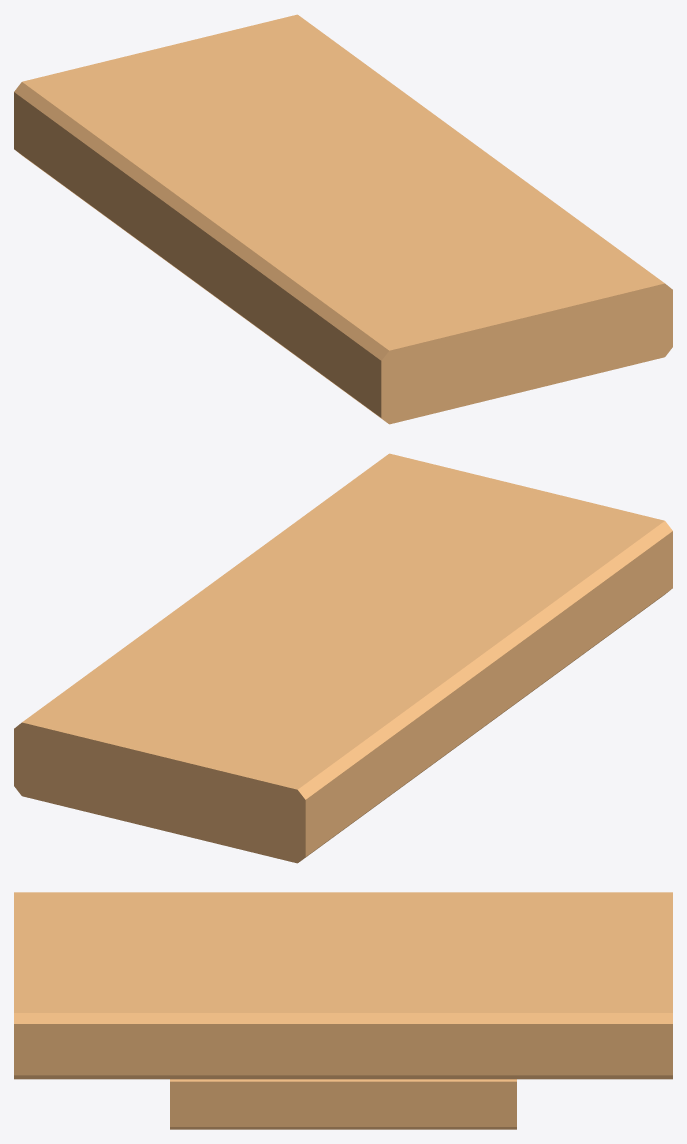
File: stufe 5 basic.fbx
3 views of the same model, one above another, from view 1: azimuth 30°, elevation 25°; view 2: azimuth 150°, elevation 25°; view 3: azimuth 270°, elevation 25° (orthographic). The views are drawn at different scales.
Visible parts, largest first — view 1: stufe basic; view 2: stufe basic; view 3: stufe basic.
Boxes of the visible parts, x1,y1,x2,y2 form: stufe basic: (14,14,672,424); stufe basic: (14,453,672,863); stufe basic: (14,892,672,1129).
Size of the model in its own units: 75.12 by 32.56 by 164.
